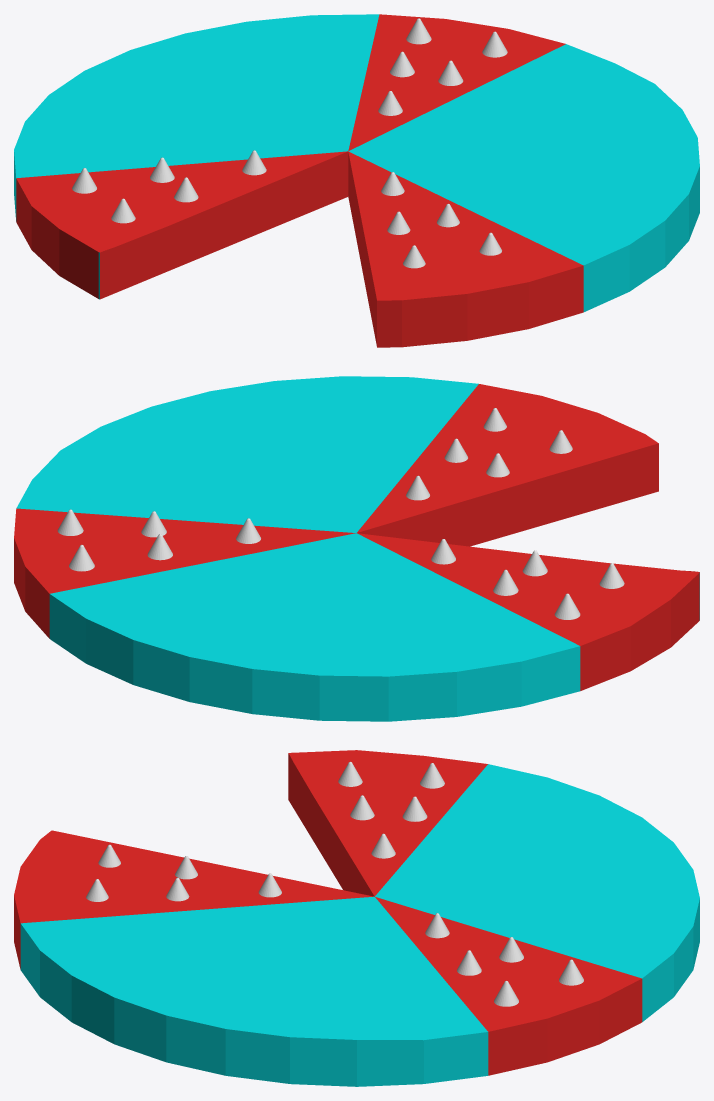
Rendered from CylinderOneSmallSliceSpike.glb.
3 views of the same model, one above another, from view 1: azimuth 30°, elevation 25°; view 2: azimuth 150°, elevation 25°; view 3: azimuth 270°, elevation 25° (orthographic). The views are drawn at different scales.
Visible parts, largest first — view 1: Cylinder.001; view 2: Cylinder.001; view 3: Cylinder.001.
Part boxes in pixels (x1,y1,x2,y2): Cylinder.001: [14, 14, 699, 347]; Cylinder.001: [14, 376, 699, 721]; Cylinder.001: [14, 750, 699, 1086].
Bounding box in the file's own units: 2 × 0.2085 × 2.
